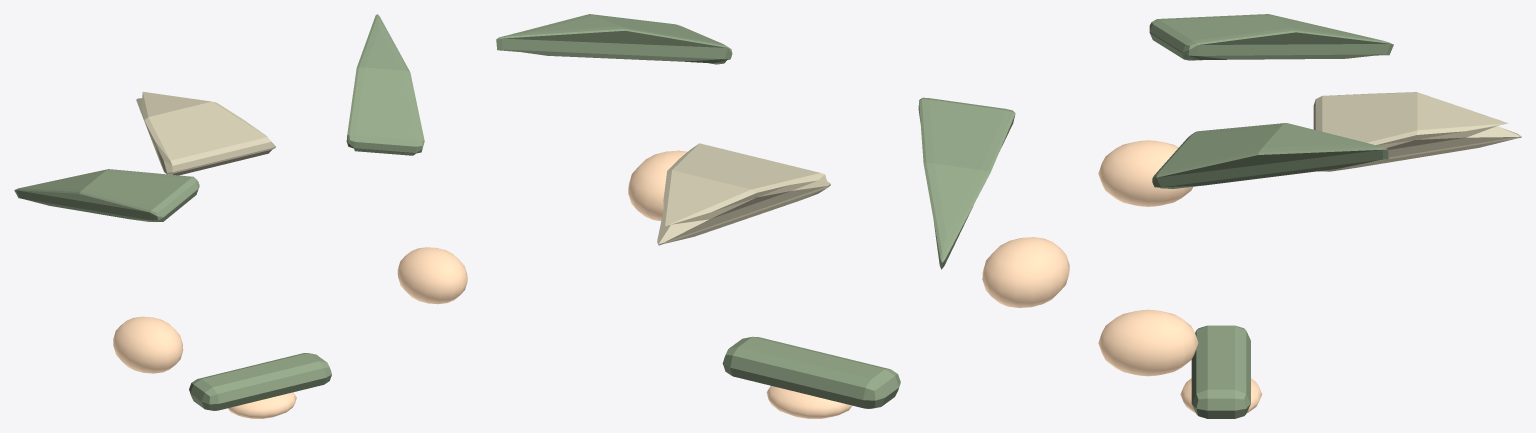
Rendered from hero_03_detail.glb.
3 views of the same model, side by side, from view 1: azimuth 30°, elevation 25°; view 2: azimuth 150°, elevation 25°; view 3: azimuth 270°, elevation 25° (orthographic). The views are drawn at different scales.
Parts seen in each view (by area): view 1: Mira_HoodCrest, Mira_Feather_1, Mira_Feather_-1, Mira_BrowClasp, Mira_TemplePin_1, Mira_TemplePin_-1, Mira_PathfinderStone; view 2: Mira_HoodCrest, Mira_Feather_-1, Mira_Feather_1, Mira_BrowClasp, Mira_TemplePin_-1, Mira_TemplePin_1, Mira_PathfinderStone; view 3: Mira_Feather_1, Mira_HoodCrest, Mira_Feather_-1, Mira_BrowClasp, Mira_TemplePin_1, Mira_TemplePin_-1, Mira_PathfinderStone.
Boxes of the visible parts, x1,y1,x2,y2 form: Mira_HoodCrest: [136, 91, 275, 175]; Mira_Feather_1: [346, 14, 424, 155]; Mira_Feather_-1: [14, 169, 199, 221]; Mira_BrowClasp: [189, 353, 331, 410]; Mira_TemplePin_1: [397, 247, 467, 304]; Mira_TemplePin_-1: [113, 316, 183, 373]; Mira_PathfinderStone: [228, 392, 296, 418]; Mira_HoodCrest: [657, 143, 830, 245]; Mira_Feather_-1: [918, 97, 1015, 269]; Mira_Feather_1: [496, 14, 732, 64]; Mira_BrowClasp: [722, 336, 900, 408]; Mira_TemplePin_-1: [982, 237, 1069, 307]; Mira_TemplePin_1: [628, 150, 687, 220]; Mira_PathfinderStone: [766, 386, 851, 418]; Mira_Feather_1: [1152, 123, 1388, 188]; Mira_HoodCrest: [1313, 92, 1521, 171]; Mira_Feather_-1: [1149, 14, 1393, 60]; Mira_BrowClasp: [1191, 325, 1250, 418]; Mira_TemplePin_1: [1098, 309, 1198, 376]; Mira_TemplePin_-1: [1098, 140, 1192, 206]; Mira_PathfinderStone: [1180, 378, 1262, 412].
Bounding box in the file's own units: 0.5582 × 0.4488 × 0.4647.
